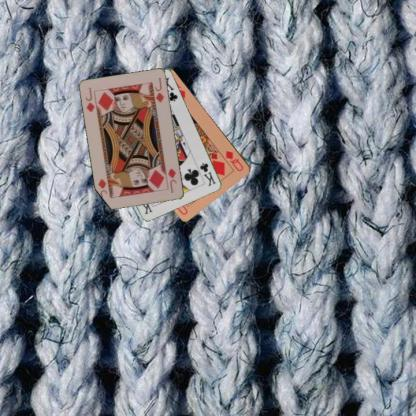Jd: (165, 166, 178, 195), (83, 85, 96, 114)
Kc: (198, 160, 217, 188)
Qd: (223, 148, 245, 173)
